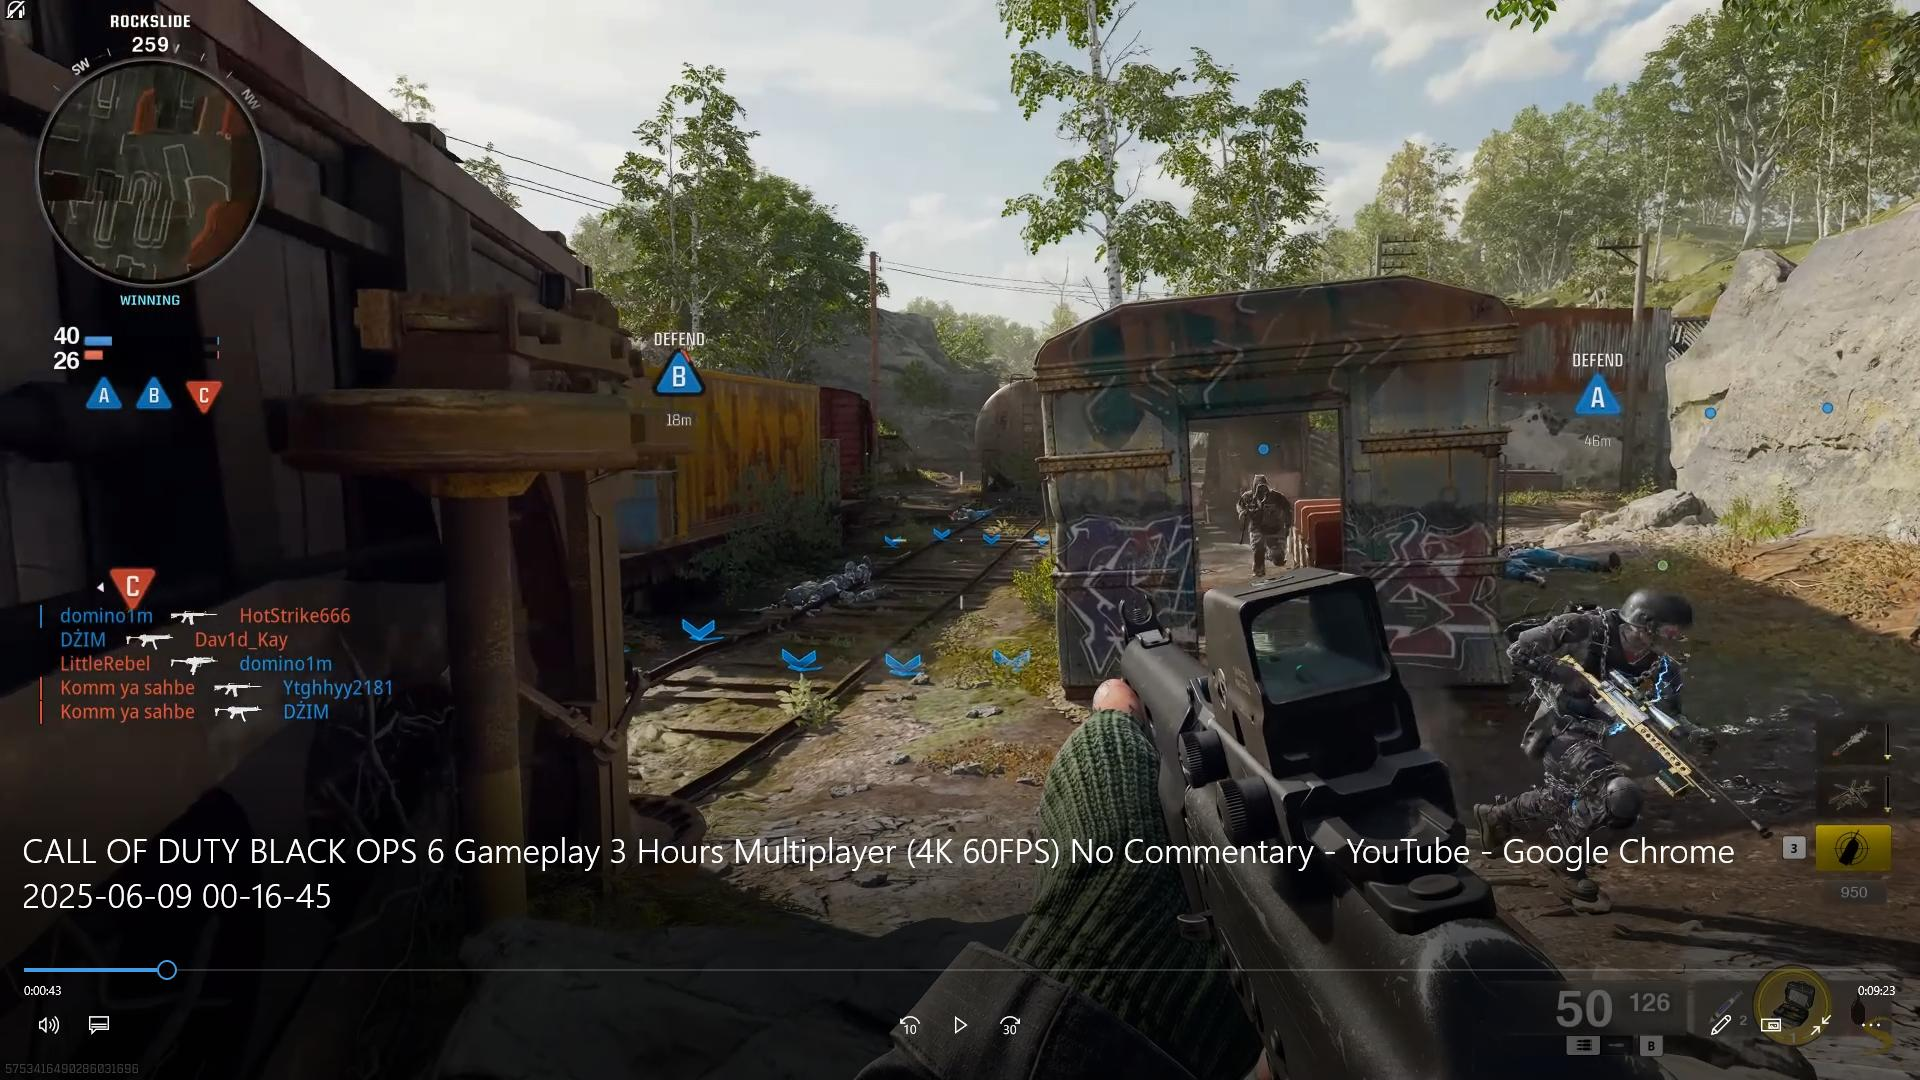Enemy: (1502, 584, 1704, 818), (1233, 468, 1296, 568)
